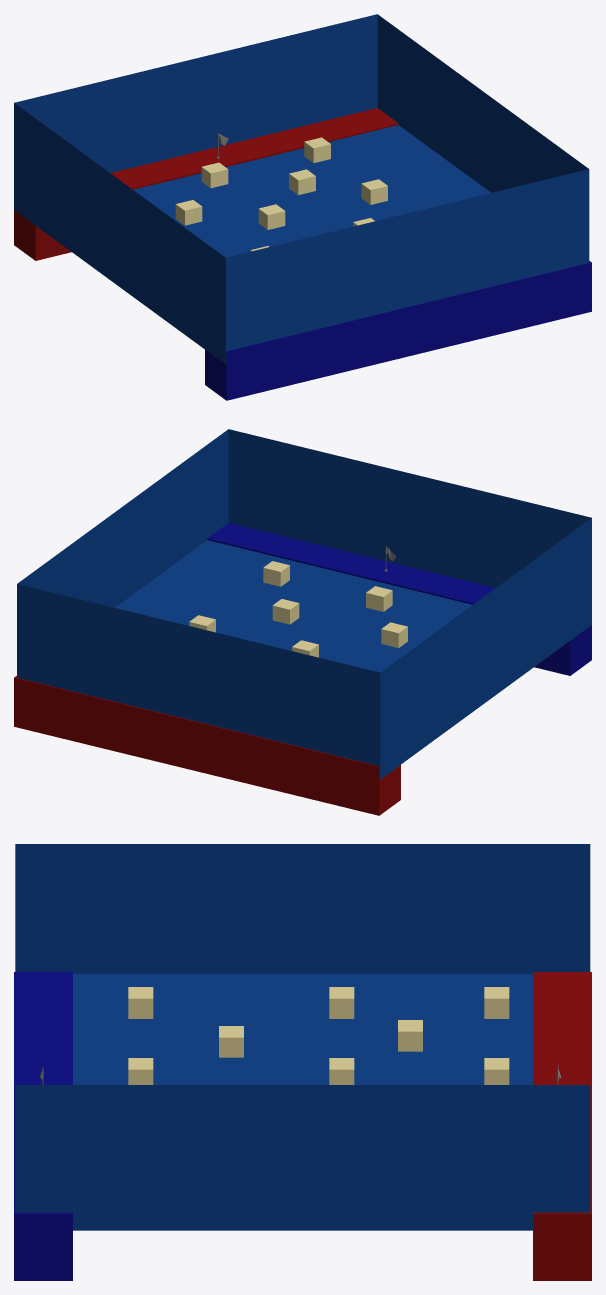
Rendered from arena.obj.
3 views of the same model, one above another, from view 1: azimuth 30°, elevation 25°; view 2: azimuth 150°, elevation 25°; view 3: azimuth 270°, elevation 25° (orthographic). The views are drawn at different scales.
Visible parts, largest first — view 1: Box001, Box016, Box015, Box007, Box006, Box013, Box009, Box010, Box012; view 2: Box001, Box015, Box016, Box011, Box005, Box014, Box008; view 3: Box001, Box016, Box015, Box002, Box003, Box004, Box013, Box014, Box005, Box006, Box007.
Boxes of the visible parts, <box> form: Box001: <box>14,14,589,364</box>; Box016: <box>205,261,591,400</box>; Box015: <box>14,108,398,260</box>; Box007: <box>201,162,228,188</box>; Box006: <box>258,204,285,229</box>; Box013: <box>175,200,202,225</box>; Box009: <box>361,179,387,204</box>; Box010: <box>304,137,330,163</box>; Box012: <box>289,169,315,194</box>; Box001: <box>17,429,591,779</box>; Box015: <box>14,676,400,815</box>; Box016: <box>207,523,591,675</box>; Box011: <box>272,599,299,624</box>; Box005: <box>366,586,392,611</box>; Box014: <box>381,622,407,647</box>; Box008: <box>263,561,289,586</box>; Box001: <box>15,844,590,1230</box>; Box016: <box>14,972,72,1280</box>; Box015: <box>533,972,591,1280</box>; Box002: <box>484,987,509,1018</box>; Box003: <box>329,987,354,1018</box>; Box004: <box>128,987,153,1018</box>; Box013: <box>398,1020,422,1051</box>; Box014: <box>219,1026,243,1057</box>; Box005: <box>128,1058,153,1084</box>; Box006: <box>329,1058,354,1084</box>; Box007: <box>484,1058,509,1084</box>.
Bounding box in the file's own units: 410 × 153 × 413.
